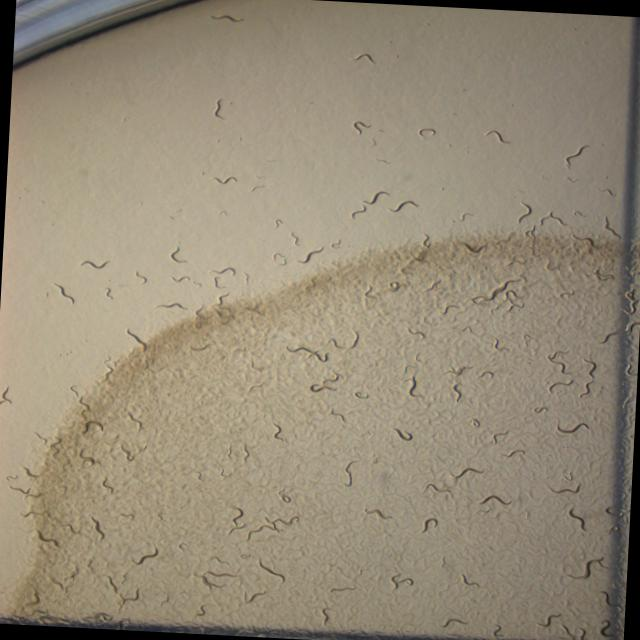filarid: (568, 556, 603, 579), (286, 345, 328, 361), (258, 558, 285, 581), (564, 145, 588, 166), (227, 506, 245, 533), (132, 547, 158, 565), (126, 329, 147, 351), (297, 246, 322, 263), (567, 507, 585, 529), (388, 199, 418, 211), (452, 467, 482, 479), (557, 421, 588, 432), (362, 191, 388, 204), (479, 494, 511, 504), (344, 460, 356, 485), (408, 375, 421, 397), (209, 14, 244, 22), (364, 508, 391, 518), (423, 482, 449, 492), (170, 246, 186, 262), (443, 617, 467, 627), (352, 120, 370, 133), (352, 52, 375, 62), (272, 421, 283, 441), (209, 266, 236, 274), (422, 517, 436, 532), (461, 574, 478, 586), (213, 98, 223, 118), (351, 205, 366, 218), (213, 176, 237, 184), (452, 382, 462, 401), (156, 302, 185, 308), (134, 270, 147, 283), (212, 276, 224, 287), (171, 275, 190, 281), (290, 232, 298, 245), (330, 586, 355, 590), (461, 212, 472, 219), (275, 218, 282, 226)
